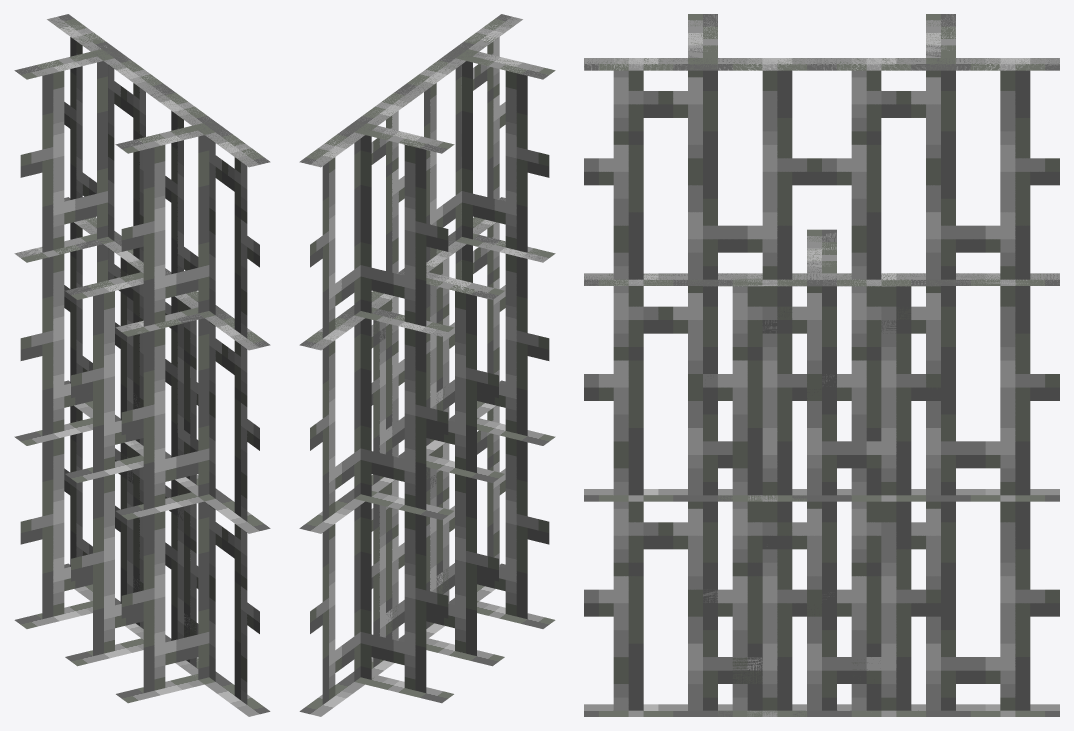
Rendered from iron_bars_lod0.fbx.
3 renders of one model, left to right at view 1: azimuth 30°, elevation 25°; view 2: azimuth 150°, elevation 25°; view 3: azimuth 270°, elevation 25°, orthographic. The views are drawn at different scales.
Visible parts, largest first — view 1: Iron Bars 1 Layer 1, Iron Bars 1, Iron Bars 1 Layer 2, Iron Bars 2 Layer 1, Iron Bars 2, Iron Bars 2 Layer 2; view 2: Iron Bars 1 Layer 1, Iron Bars 1, Iron Bars 1 Layer 2, Iron Bars 2 Layer 1, Iron Bars 2, Iron Bars 2 Layer 2; view 3: Iron Bars 1, Iron Bars 2, Iron Bars 1 Layer 2, Iron Bars 2 Layer 2.
Part boxes in pixels (box(x1,y1,x2,y2)): Iron Bars 1 Layer 1: box(20, 61, 209, 692); Iron Bars 1: box(64, 37, 259, 704); Iron Bars 1 Layer 2: box(14, 14, 270, 716); Iron Bars 2 Layer 1: box(71, 291, 143, 655); Iron Bars 2: box(115, 257, 198, 667); Iron Bars 2 Layer 2: box(65, 244, 218, 676); Iron Bars 1 Layer 1: box(360, 61, 549, 692); Iron Bars 1: box(310, 37, 505, 704); Iron Bars 1 Layer 2: box(299, 14, 555, 716); Iron Bars 2 Layer 1: box(426, 291, 498, 655); Iron Bars 2: box(371, 257, 454, 667); Iron Bars 2 Layer 2: box(350, 244, 504, 678); Iron Bars 1: box(584, 70, 1059, 710); Iron Bars 2: box(703, 286, 940, 710); Iron Bars 1 Layer 2: box(584, 14, 1059, 716); Iron Bars 2 Layer 2: box(703, 229, 940, 716).
Size of the model in its own units: 57.15 by 304 by 203.
